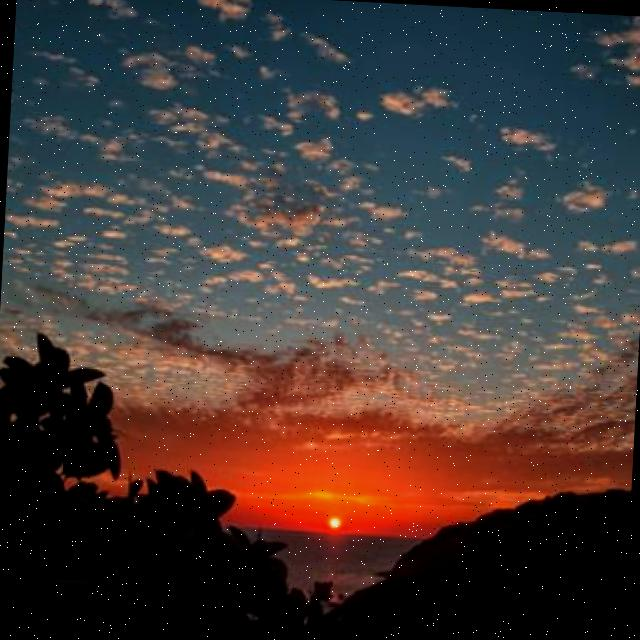Cc: (1, 1, 640, 364)
